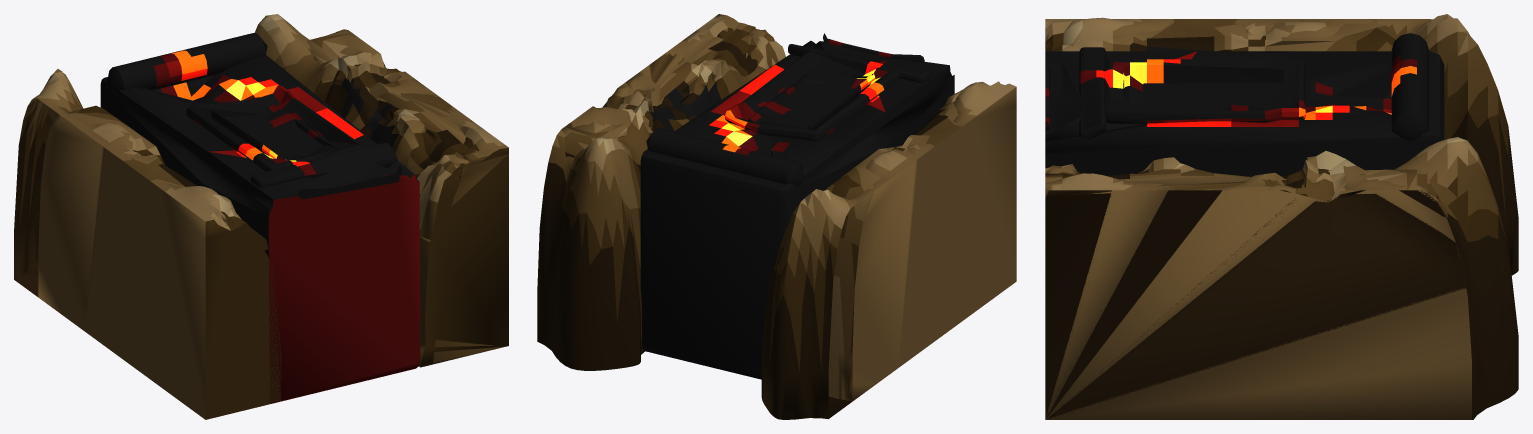
Rendered from ixm_wall_slot_top_damaged.glb.
3 renders of one model, left to right at view 1: azimuth 30°, elevation 25°; view 2: azimuth 150°, elevation 25°; view 3: azimuth 270°, elevation 25°, orthographic. The views are drawn at different scales.
Parts seen in each view (by area): view 1: ixm_wall_slot_top_damaged_rock_end_l, ixm_wall_slot_top_damaged_house, ixm_wall_slot_top_damaged_rock_slot, ixm_wall_slot_top_damaged_window_frame, ixm_wall_slot_top_damaged_rock_rock, ixm_wall_slot_top_damaged_lip, ixm_wall_slot_top_damaged_band, ixm_wall_slot_top_damaged_window, ixm_wall_slot_top_damaged_panel_frame; view 2: ixm_wall_slot_top_damaged_rock_slot, ixm_wall_slot_top_damaged_house, ixm_wall_slot_top_damaged_rock_end_l, ixm_wall_slot_top_damaged_window_frame, ixm_wall_slot_top_damaged_rock_rock, ixm_wall_slot_top_damaged_lip, ixm_wall_slot_top_damaged_window, ixm_wall_slot_top_damaged_band, ixm_wall_slot_top_damaged_panel_frame; view 3: ixm_wall_slot_top_damaged_rock_slot, ixm_wall_slot_top_damaged_rock_rock, ixm_wall_slot_top_damaged_house, ixm_wall_slot_top_damaged_window_frame, ixm_wall_slot_top_damaged_rock_end_l, ixm_wall_slot_top_damaged_lip, ixm_wall_slot_top_damaged_window, ixm_wall_slot_top_damaged_band.
Boxes of the visible parts, box(x1,y1,x2,y2) form: ixm_wall_slot_top_damaged_rock_end_l: box(38, 105, 281, 419); ixm_wall_slot_top_damaged_house: box(100, 55, 420, 403); ixm_wall_slot_top_damaged_rock_slot: box(14, 14, 508, 367); ixm_wall_slot_top_damaged_window_frame: box(186, 85, 364, 171); ixm_wall_slot_top_damaged_rock_rock: box(307, 30, 508, 364); ixm_wall_slot_top_damaged_lip: box(106, 33, 267, 92); ixm_wall_slot_top_damaged_band: box(250, 142, 397, 187); ixm_wall_slot_top_damaged_window: box(211, 105, 335, 161); ixm_wall_slot_top_damaged_panel_frame: box(299, 166, 402, 199); ixm_wall_slot_top_damaged_rock_slot: box(537, 14, 1016, 419); ixm_wall_slot_top_damaged_house: box(640, 40, 954, 379); ixm_wall_slot_top_damaged_rock_end_l: box(825, 87, 1016, 401); ixm_wall_slot_top_damaged_window_frame: box(725, 51, 900, 141); ixm_wall_slot_top_damaged_rock_rock: box(561, 22, 762, 157); ixm_wall_slot_top_damaged_lip: box(646, 128, 804, 186); ixm_wall_slot_top_damaged_window: box(747, 68, 876, 130); ixm_wall_slot_top_damaged_band: box(788, 44, 932, 82); ixm_wall_slot_top_damaged_panel_frame: box(823, 33, 924, 62); ixm_wall_slot_top_damaged_rock_slot: box(1045, 14, 1518, 419); ixm_wall_slot_top_damaged_rock_rock: box(1045, 169, 1471, 419); ixm_wall_slot_top_damaged_house: box(1045, 51, 1444, 176); ixm_wall_slot_top_damaged_window_frame: box(1104, 59, 1305, 123); ixm_wall_slot_top_damaged_rock_end_l: box(1045, 19, 1397, 51); ixm_wall_slot_top_damaged_lip: box(1391, 33, 1428, 140); ixm_wall_slot_top_damaged_window: box(1123, 65, 1284, 110); ixm_wall_slot_top_damaged_band: box(1079, 47, 1106, 139).
Bounding box in the file's own units: 24 × 16.6 × 28.
